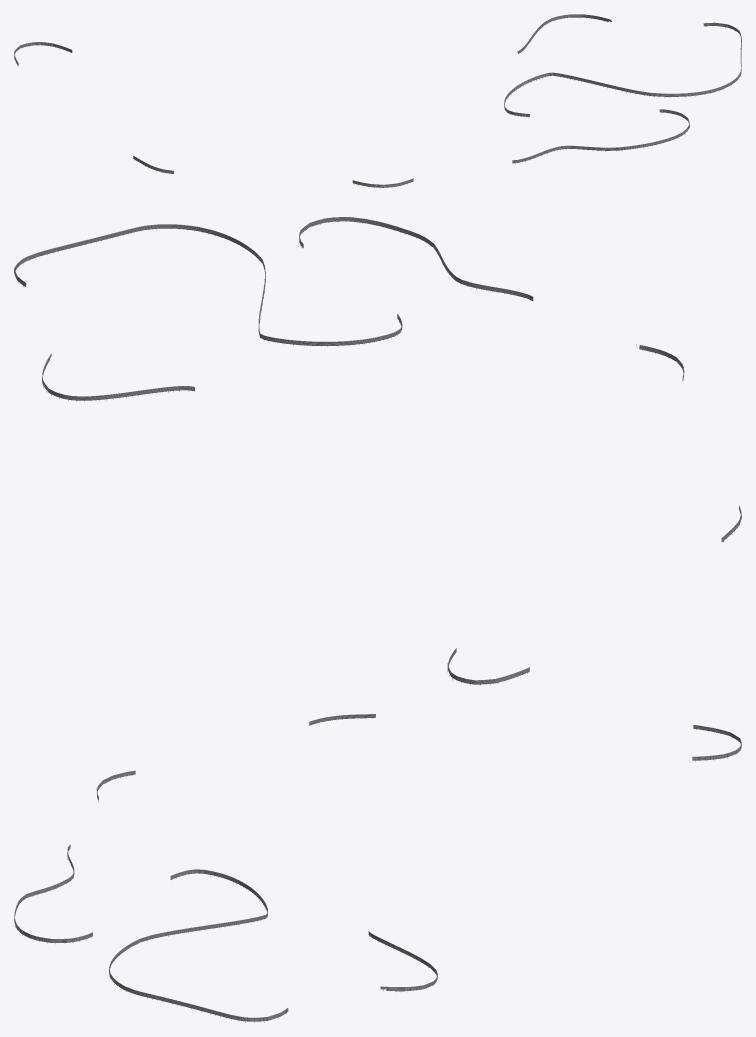
The model's file is LeftRails.fbx.
3 views of the same model, one above another, from view 1: azimuth 30°, elevation 25°; view 2: azimuth 150°, elevation 25°; view 3: azimuth 270°, elevation 25° (orthographic). The views are drawn at different scales.
Visible parts, largest first — view 1: LeftRails; view 2: LeftRails; view 3: LeftRails.
Boxes of the visible parts, box(x1,y1,x2,y2) form: LeftRails: box(14, 14, 741, 188); LeftRails: box(14, 217, 741, 685); LeftRails: box(14, 714, 741, 1022).
Size of the model in its own units: 80301 by 5186 by 72737.
1 material, 1 textured.
